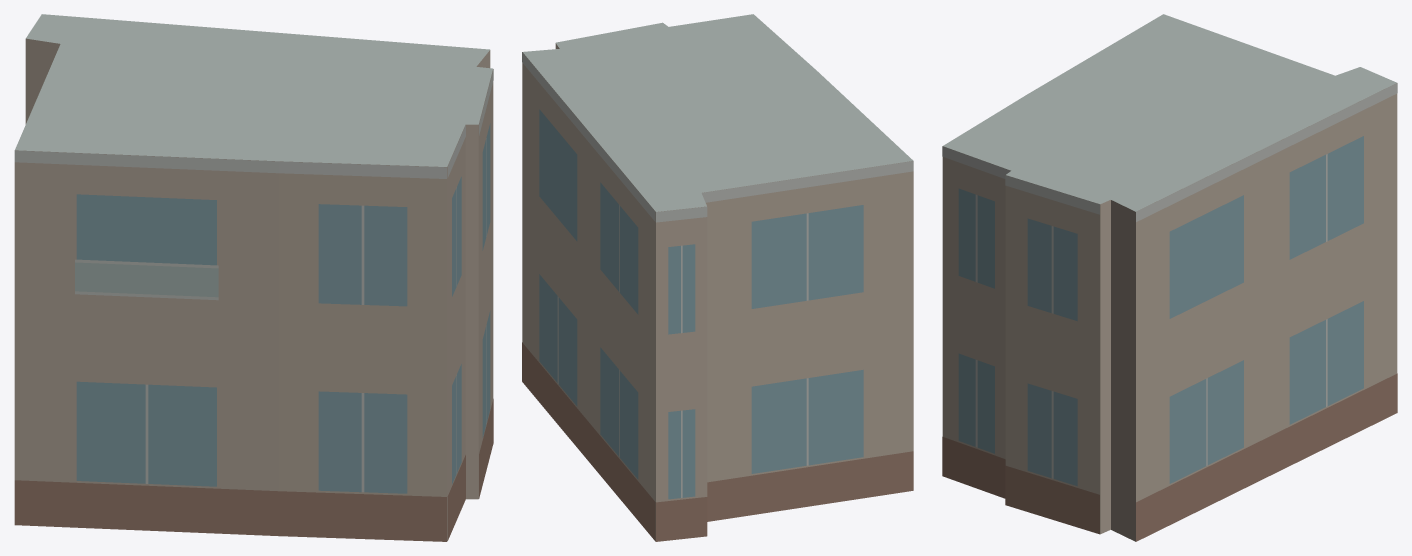
Rendered from survey-upis-32942750.glb.
The picture shows the model from 3 angles, left to right: view 1: azimuth 30°, elevation 25°; view 2: azimuth 150°, elevation 25°; view 3: azimuth 270°, elevation 25°; orthographic projection. The views are drawn at different scales.
Visible parts, largest first — view 1: survey-upis-32942750.tmp; view 2: survey-upis-32942750.tmp; view 3: survey-upis-32942750.tmp.
Part boxes in pixels (x1,y1,x2,y2): survey-upis-32942750.tmp: (14, 14, 493, 541); survey-upis-32942750.tmp: (522, 14, 913, 541); survey-upis-32942750.tmp: (942, 14, 1397, 541).
Size of the model in its own units: 9.77 by 7.6 by 9.5.
